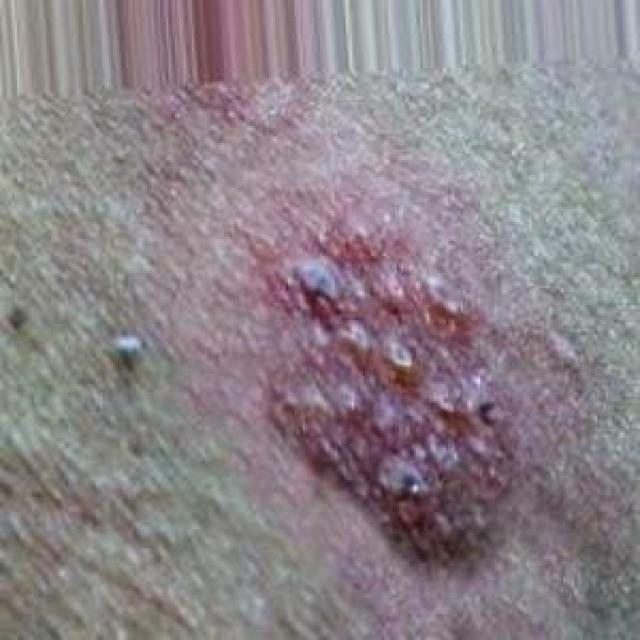Shingles: (267, 242, 522, 571)
